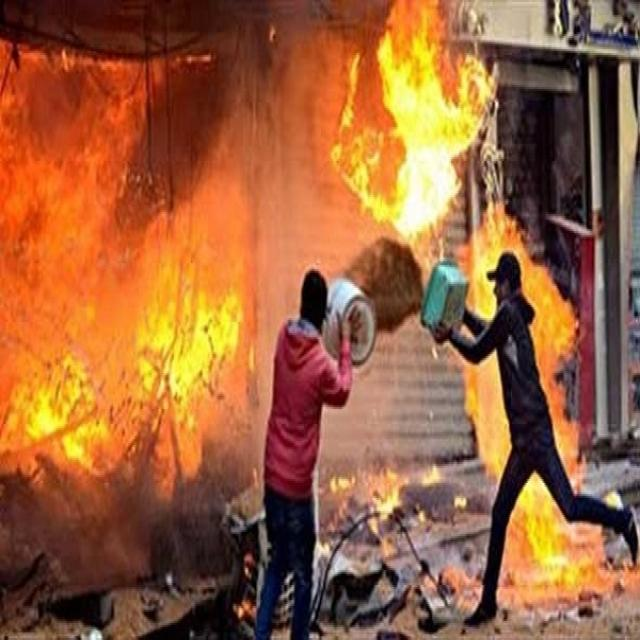Fire: (0, 36, 113, 494), (328, 0, 500, 244), (110, 224, 254, 503), (507, 222, 589, 482), (456, 204, 508, 480), (507, 482, 602, 598), (320, 463, 410, 553), (112, 58, 164, 191), (446, 564, 484, 613), (600, 564, 640, 597), (162, 49, 214, 72), (424, 468, 445, 489), (236, 596, 256, 618), (606, 486, 623, 508), (454, 498, 468, 508), (268, 23, 276, 40), (418, 513, 428, 522)
Smoke: (189, 167, 253, 273)
